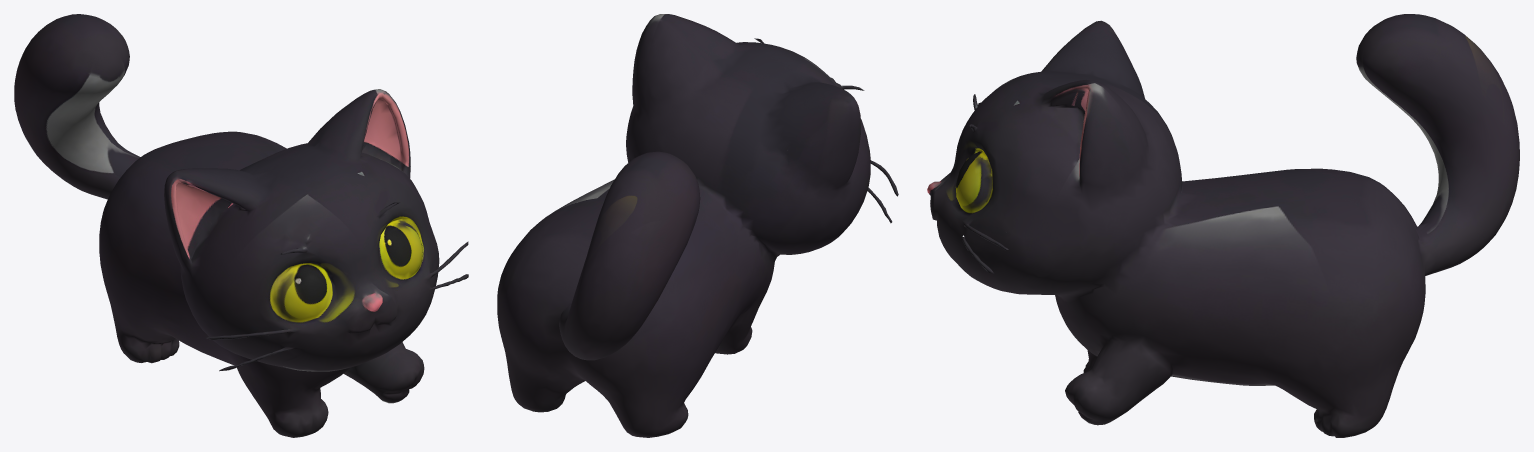
File: black_cat_quadruped.glb
3 views of the same model, side by side, from view 1: azimuth 30°, elevation 25°; view 2: azimuth 150°, elevation 25°; view 3: azimuth 270°, elevation 25° (orthographic). The views are drawn at different scales.
Visible parts, largest first — view 1: tripo_node_00cdd728-6744-4279-861a-3bc12997ebea; view 2: tripo_node_00cdd728-6744-4279-861a-3bc12997ebea; view 3: tripo_node_00cdd728-6744-4279-861a-3bc12997ebea.
Boxes of the visible parts, bbox=[...] form: tripo_node_00cdd728-6744-4279-861a-3bc12997ebea: bbox=[14, 14, 468, 437]; tripo_node_00cdd728-6744-4279-861a-3bc12997ebea: bbox=[497, 14, 898, 437]; tripo_node_00cdd728-6744-4279-861a-3bc12997ebea: bbox=[927, 14, 1519, 437].
Size of the model in its own units: 0.5341 by 0.6414 by 1.
Materials: 1 (1 with a texture image).
